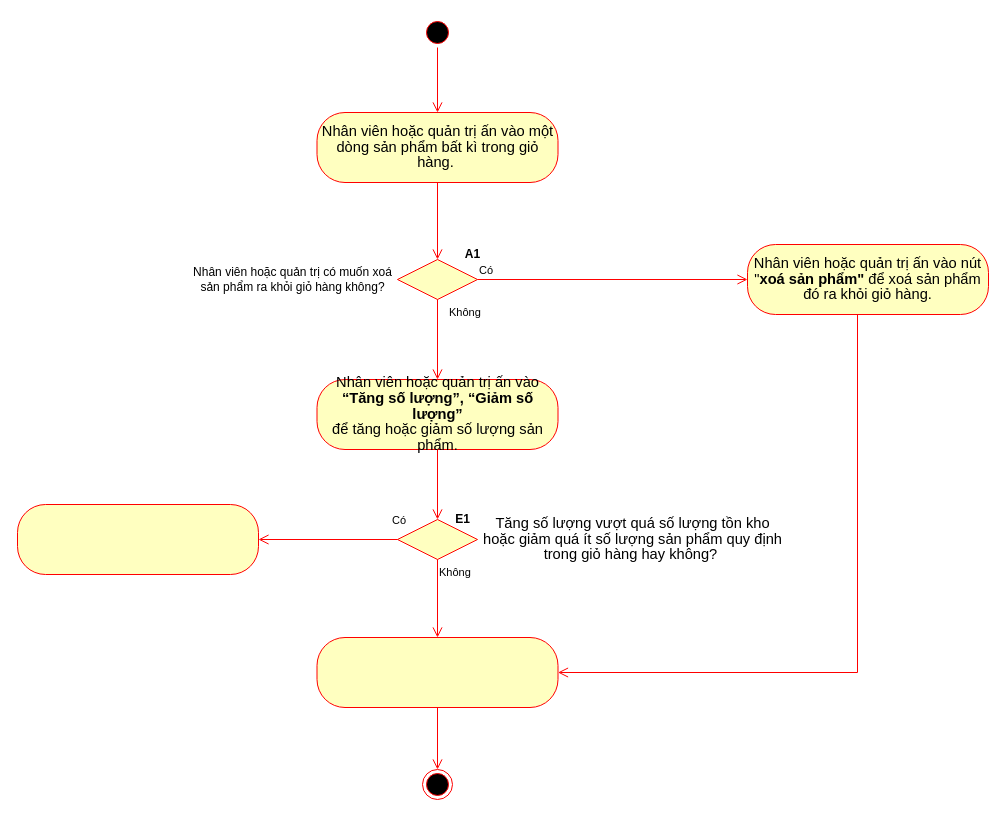
Image size: 1006x817. Some labels were removed from this diagram. Each missing label, with the centre of its shape:
Hệ thống cập nhật và hiển thị số lượng mới của sản phẩm trong giỏ hàng: the point at 437,672
Hệ thống thông báo lỗi tương ứng: the point at 137,539
